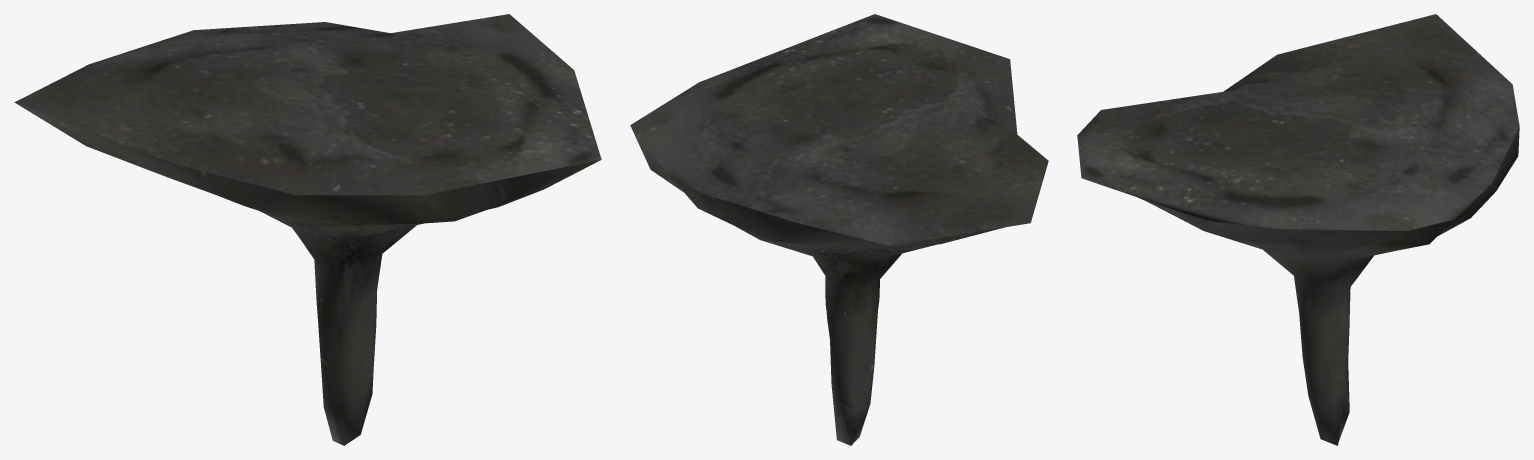
Rendered from rock_forest_stalgamite01.DAE.
The picture shows the model from 3 angles, left to right: view 1: azimuth 30°, elevation 25°; view 2: azimuth 150°, elevation 25°; view 3: azimuth 270°, elevation 25°; orthographic projection. The views are drawn at different scales.
Visible parts, largest first — view 1: Object001; view 2: Object001; view 3: Object001.
Part boxes in pixels (bbox=[...]): Object001: bbox=[14, 14, 601, 445]; Object001: bbox=[630, 14, 1048, 445]; Object001: bbox=[1077, 14, 1519, 445].
Bounding box in the file's own units: 0.9694 × 0.7089 × 0.8924.
